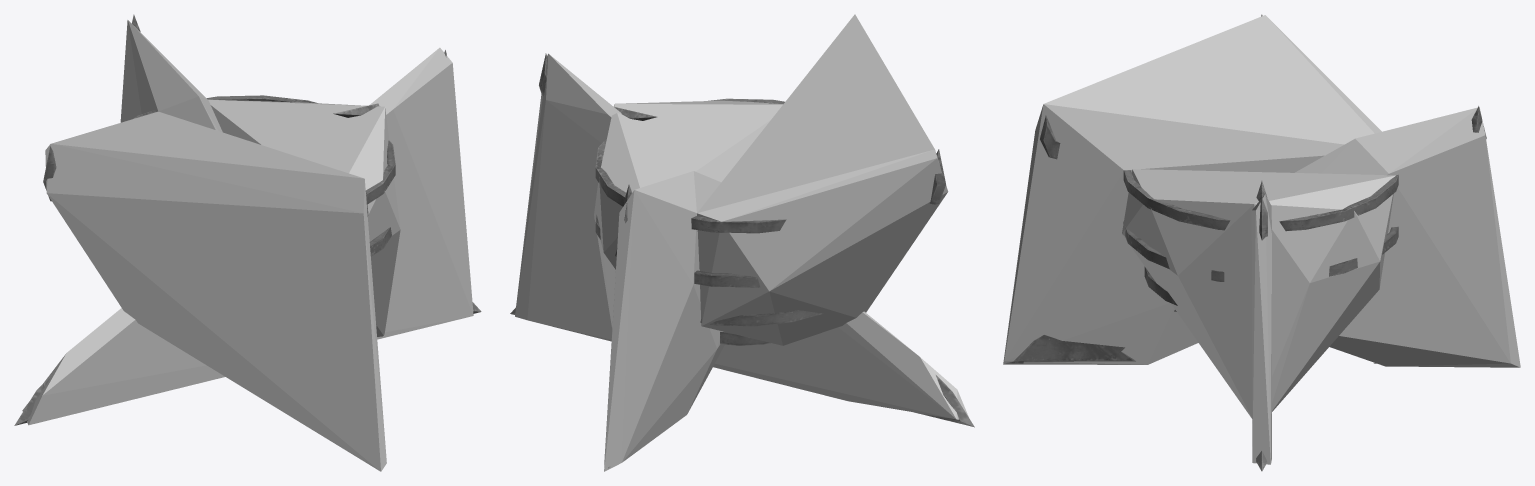
The model's file is SM_Firepit.fbx.
3 views of the same model, side by side, from view 1: azimuth 30°, elevation 25°; view 2: azimuth 150°, elevation 25°; view 3: azimuth 270°, elevation 25° (orthographic). The views are drawn at different scales.
Parts seen in each view (by area): view 1: SM_Firepit_ConvexHulls, SM_Firepit; view 2: SM_Firepit_ConvexHulls, SM_Firepit; view 3: SM_Firepit_ConvexHulls, SM_Firepit.
Boxes of the visible parts, x1,y1,x2,y2 form: SM_Firepit_ConvexHulls: [22, 20, 473, 471]; SM_Firepit: [14, 14, 481, 425]; SM_Firepit_ConvexHulls: [515, 14, 968, 471]; SM_Firepit: [510, 53, 974, 468]; SM_Firepit_ConvexHulls: [1003, 15, 1520, 464]; SM_Firepit: [1005, 14, 1486, 471].
Bounding box in the file's own units: 178 × 179 × 101.
2 materials, 1 textured.
